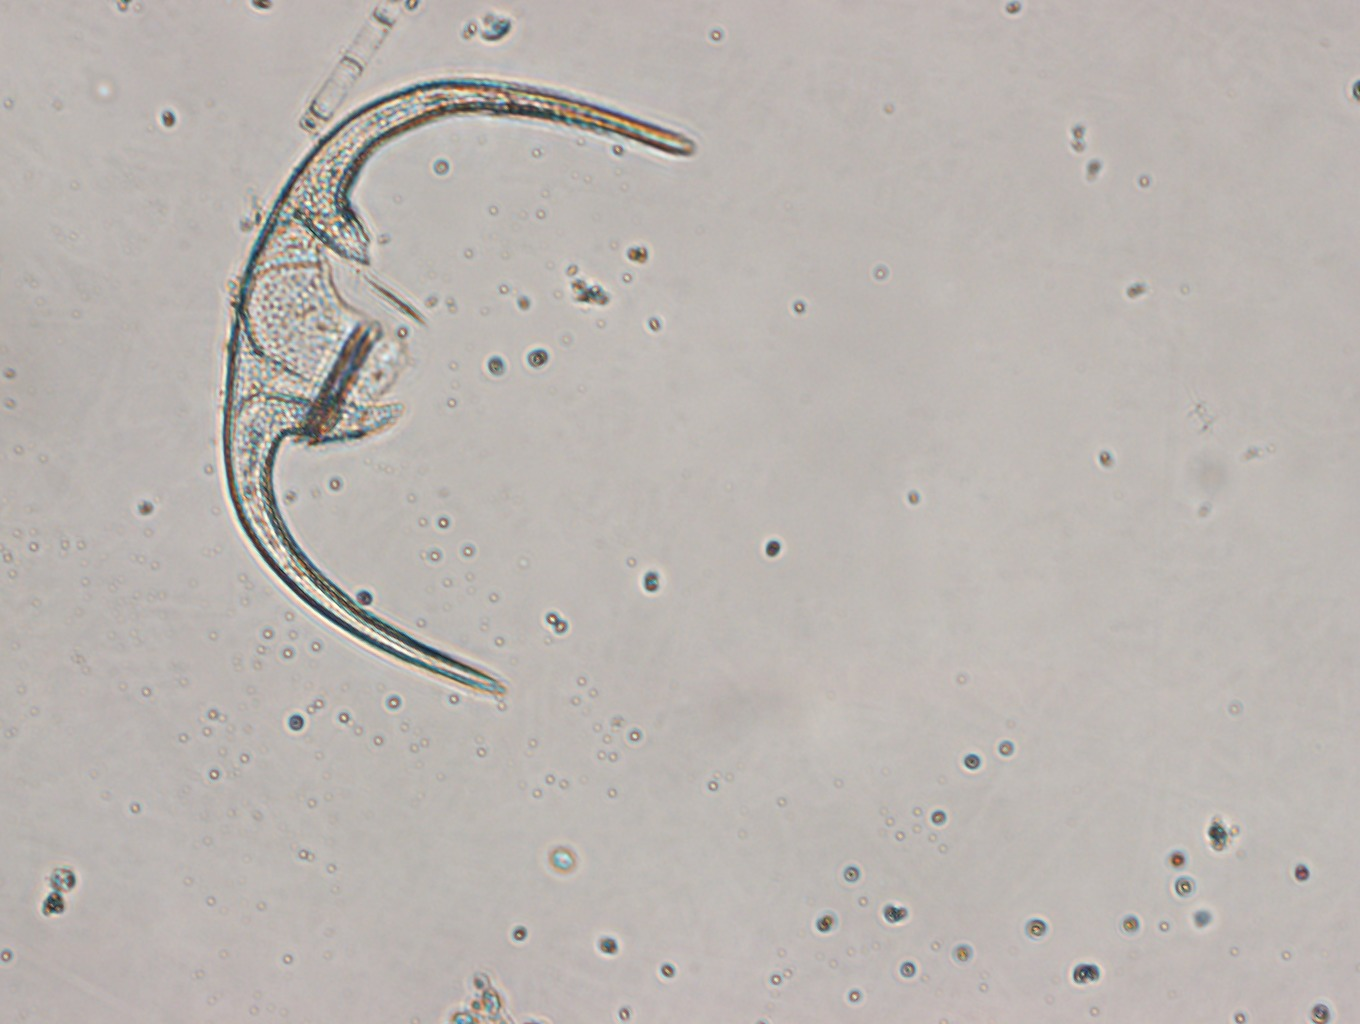ceratium tripos: (220, 77, 701, 693)
